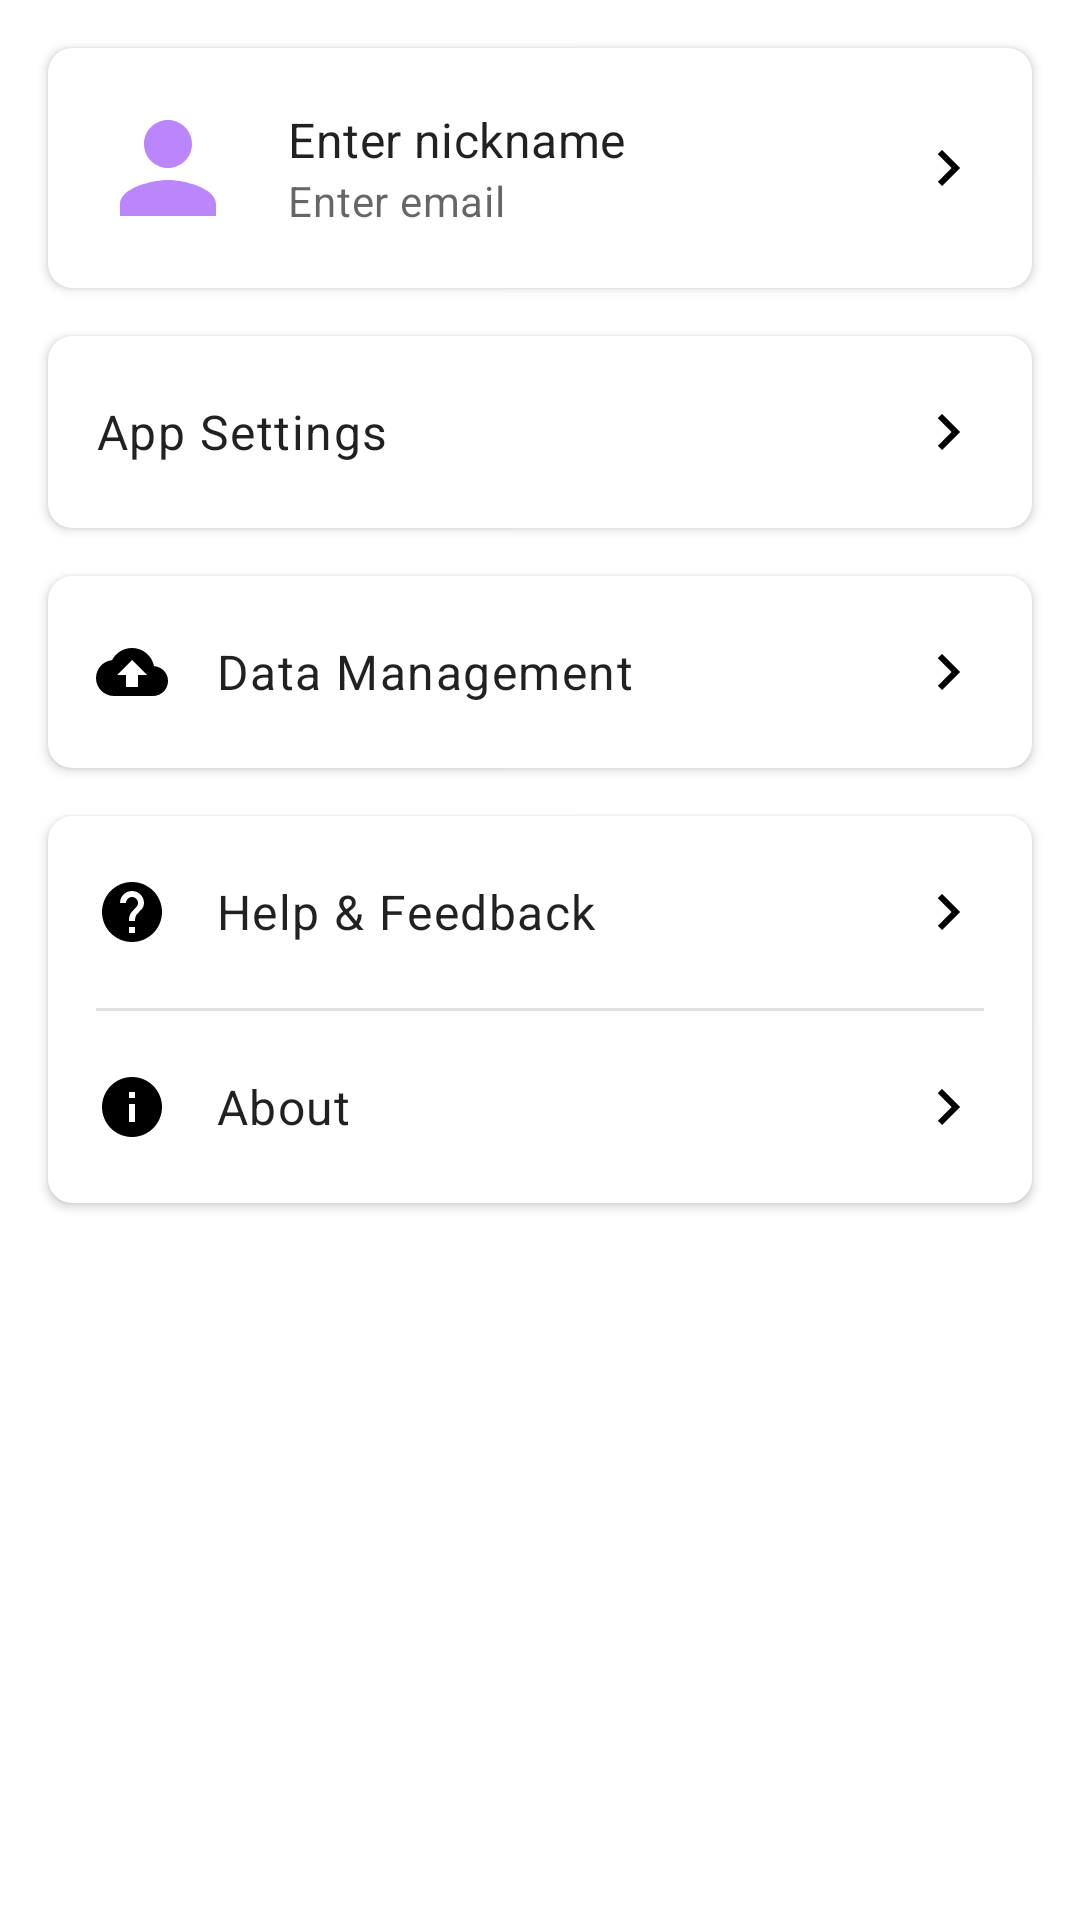

Where to tap for icons on this 1080×1920 app screen, as (x=x, y=y):
Arrow Right: (x=949, y=168)
